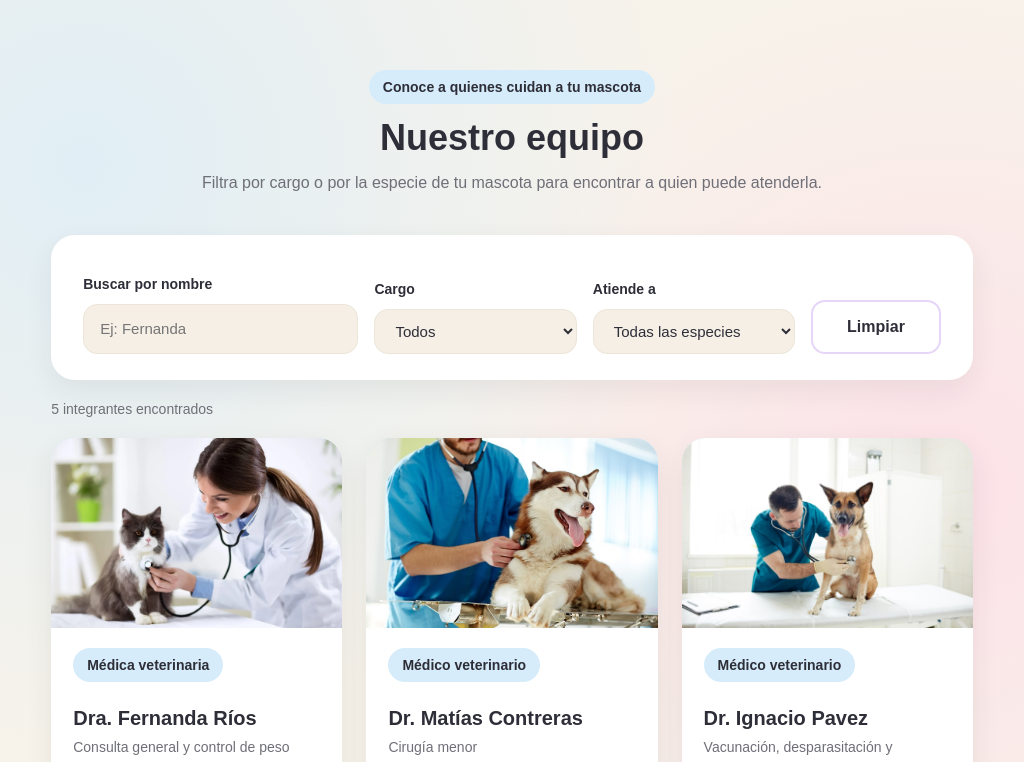
Scenario: P03 - FILTRO Y RESPONSIVIDAD: filtrar profesionales y verificar diseño responsivo
This screenshot has width=1024, height=762.
Select "Médico/a veterinario/a" in the dropdown labelled "Cargo" at (476, 331), box [374,309,577,354]
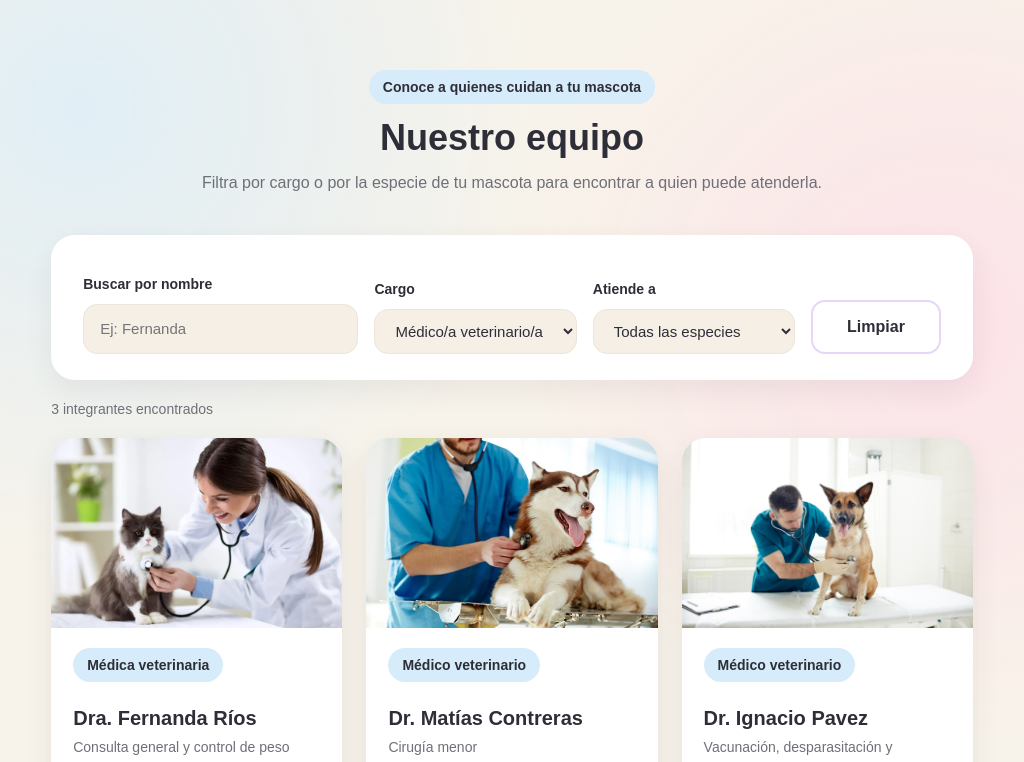
Type "Zzz" into the search field labelled "Buscar por nombre".
click(221, 329); type("Zzz")  # box [83,304,358,354]
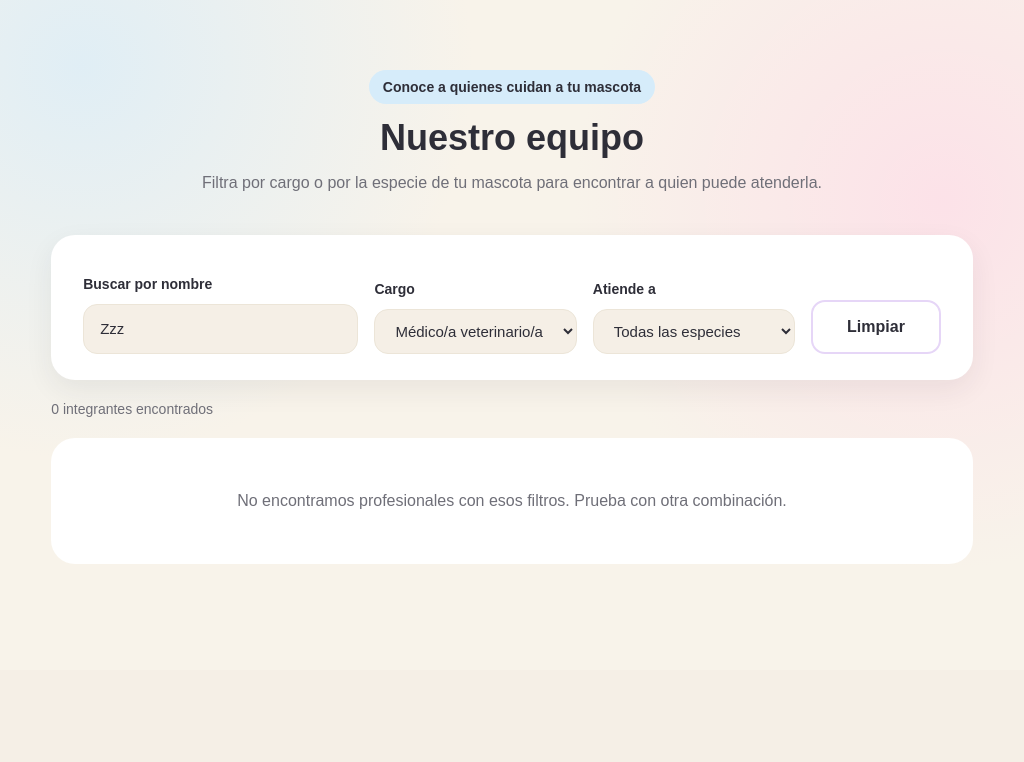
Now the text "No encontramos profesionales" is shown, box [237,492,787,509]
